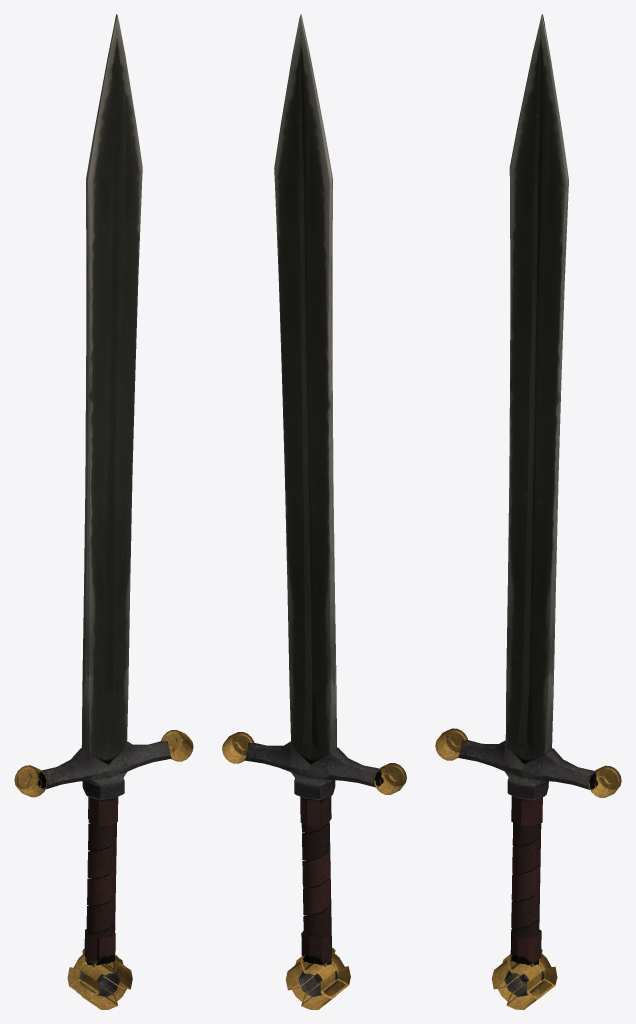
The model's file is sword.gltf.
3 renders of one model, left to right at view 1: azimuth 30°, elevation 25°; view 2: azimuth 150°, elevation 25°; view 3: azimuth 330°, elevation 25°, orthographic.
Visible parts, largest first — view 1: sword_blade; view 2: sword_blade; view 3: sword_blade.
Part boxes in pixels (bbox=[...]): sword_blade: bbox=[14, 14, 193, 1009]; sword_blade: bbox=[222, 14, 406, 1009]; sword_blade: bbox=[435, 14, 621, 1009].
Bounding box in the file's own units: 0.268 × 1.44 × 0.0541.
4 materials, 4 textured.
